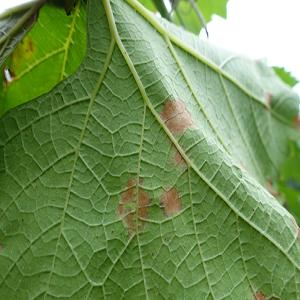Folha: (0, 0, 299, 299)
Fungo: (117, 96, 197, 238), (158, 97, 198, 218), (117, 174, 153, 238), (2, 35, 34, 87), (159, 96, 197, 136), (158, 186, 182, 218), (18, 35, 34, 61), (171, 143, 188, 167), (4, 64, 14, 84), (262, 90, 272, 110), (252, 290, 266, 300), (28, 39, 34, 52)
